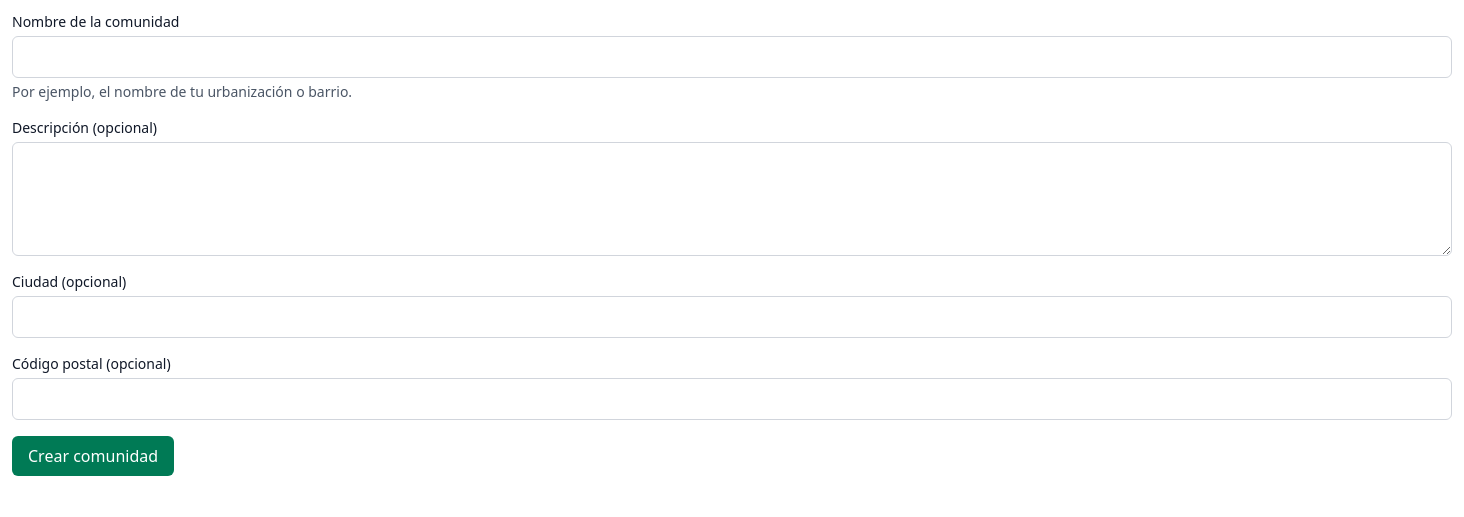
Test: CommunityForm › muestra los errores por campo y conserva lo escrito
This screenshot has width=1464, height=517.
Type "x" into the field labelled "Nombre de la comunidad". click: (732, 57)
box: x1=12 y1=36 x2=1452 y2=78
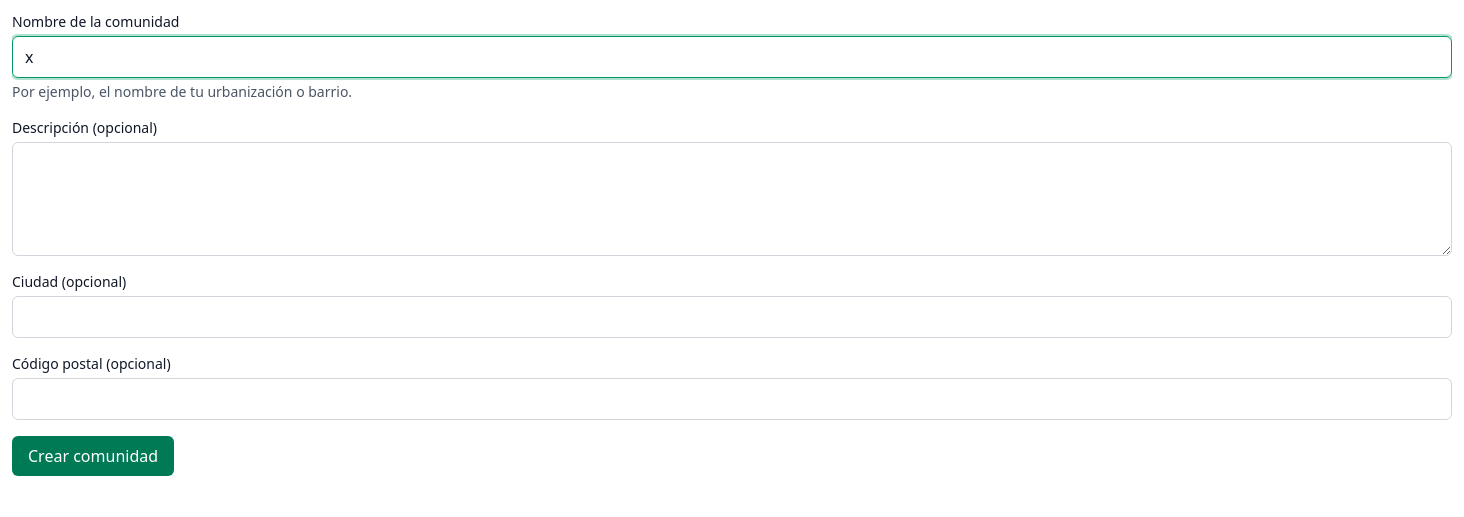
Click the button "Crear comunidad". click: click(93, 456)
box: x1=12 y1=436 x2=174 y2=476
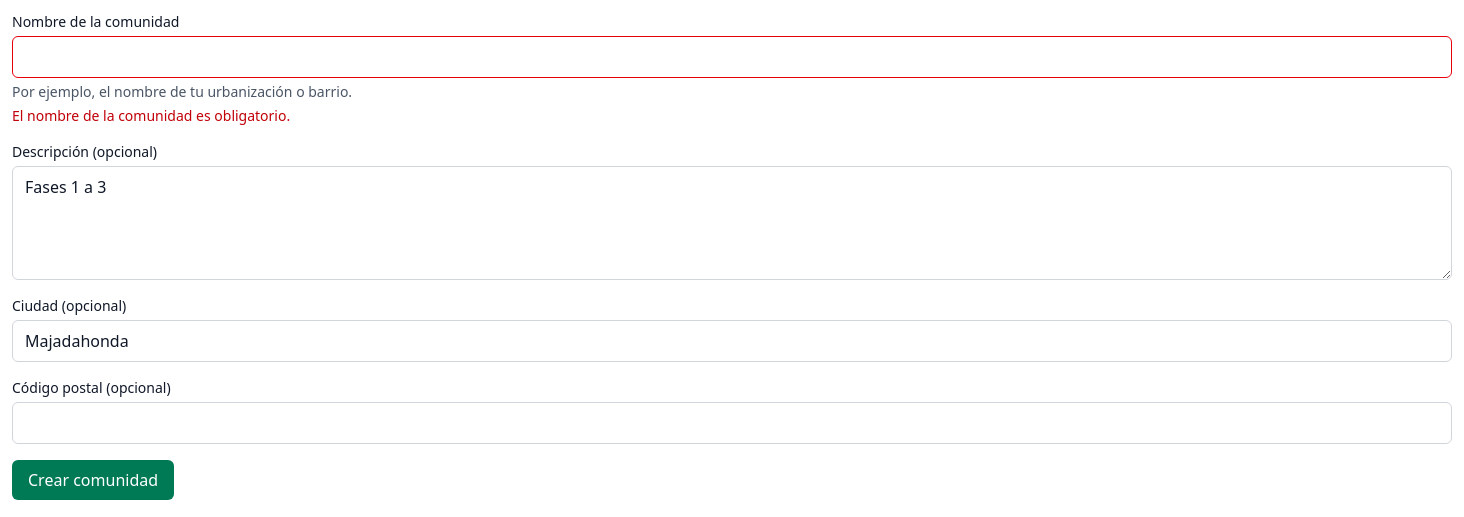
Now the text "El nombre de la comunidad es obligatorio." is shown, box x1=12 y1=106 x2=290 y2=125
Now the text box labelled "Descripción (opcional)" holds "Fases 1 a 3", box x1=12 y1=166 x2=1452 y2=280
Now the field labelled "Ciudad (opcional)" holds "Majadahonda", box x1=12 y1=320 x2=1452 y2=362
